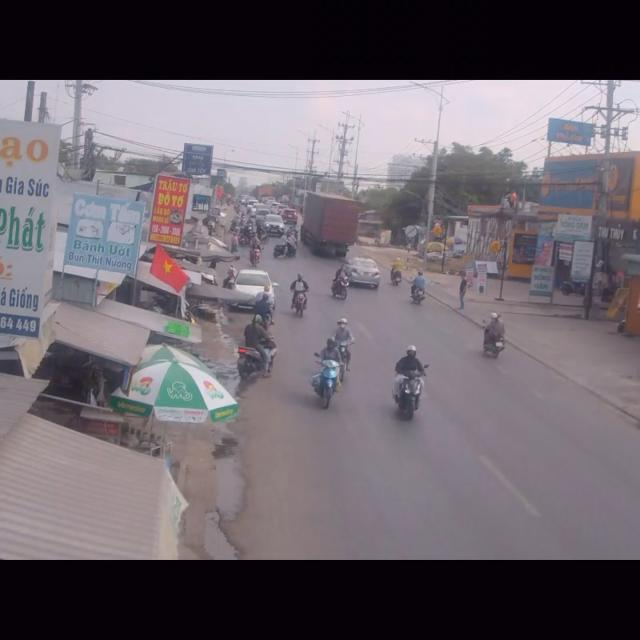car: (345, 256, 379, 287)
motorbike: (393, 344, 427, 426), (238, 321, 275, 376), (314, 346, 339, 412), (331, 319, 354, 374), (482, 312, 505, 364), (288, 273, 308, 320), (256, 290, 272, 326), (412, 271, 427, 305), (333, 268, 349, 299), (391, 260, 404, 288)
truck: (297, 192, 358, 260)
